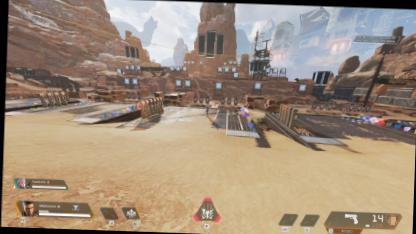Target: (204, 104, 208, 116)
